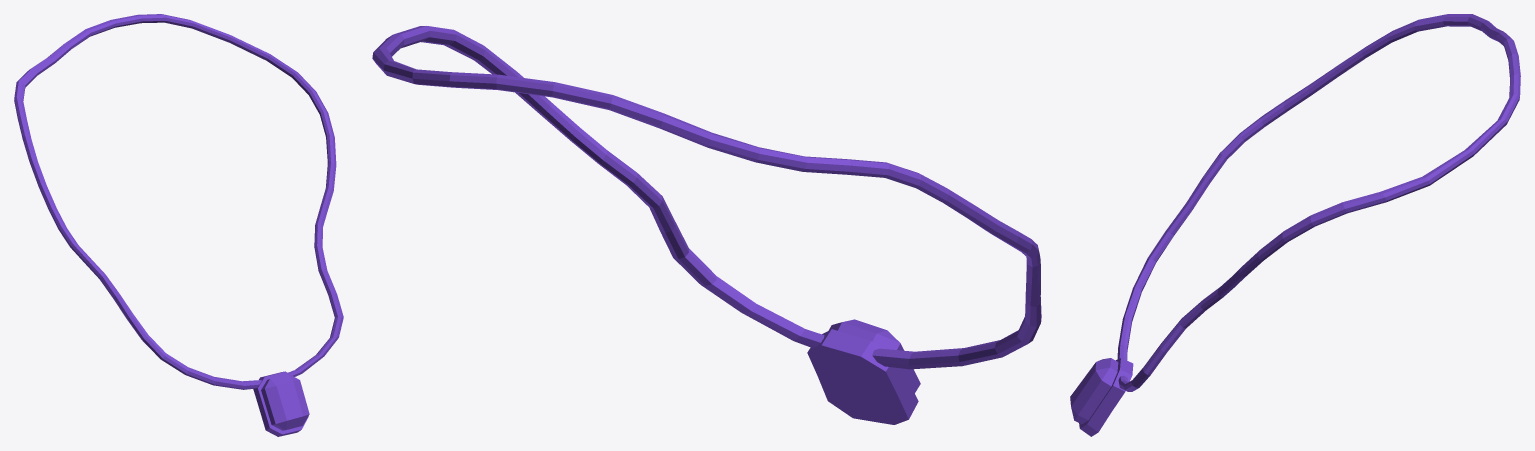
Rendered from collar1.glb.
3 views of the same model, side by side, from view 1: azimuth 30°, elevation 25°; view 2: azimuth 150°, elevation 25°; view 3: azimuth 270°, elevation 25° (orthographic). The views are drawn at different scales.
Visible parts, largest first — view 1: Necklace1_Plane.001; view 2: Necklace1_Plane.001; view 3: Necklace1_Plane.001.
Part boxes in pixels (<box>): Necklace1_Plane.001: <box>14,14,343,436</box>; Necklace1_Plane.001: <box>372,26,1041,424</box>; Necklace1_Plane.001: <box>1070,14,1520,436</box>.
Bounding box in the file's own units: 0.8734 × 0.8767 × 0.9629.
